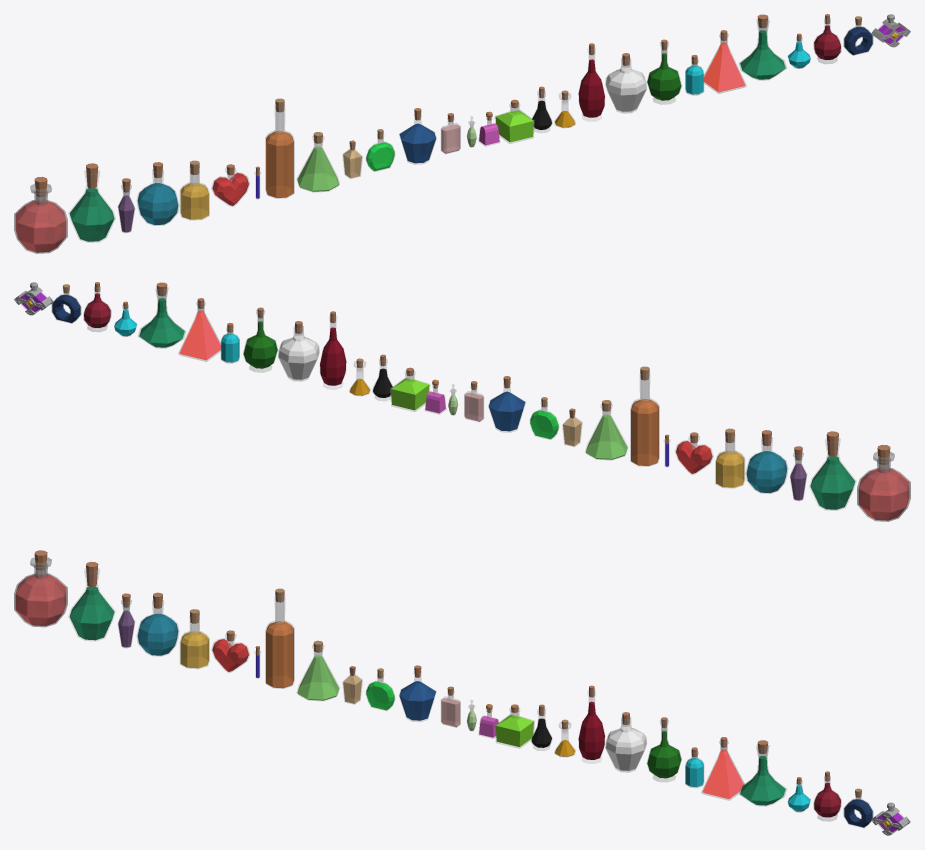
The model's file is potion_pack.glb.
The picture shows the model from 3 angles, top to bottom: view 1: azimuth 30°, elevation 25°; view 2: azimuth 150°, elevation 25°; view 3: azimuth 330°, elevation 25°; orthographic projection.
Parts seen in each view (by area): view 1: PotionGlass1, PotionGlass1.Potion, PotionGlass8, PotionGlass8.Potion, PotionGlass2.Potion, PotionGlass4, PotionGlass20, PotionGlass23, PotionGlass9, PotionGlass24, PotionGlass20.Potion, PotionGlass4.Potion (+28 smaller); view 2: PotionGlass1, PotionGlass1.Potion, PotionGlass8, PotionGlass8.Potion, PotionGlass2.Potion, PotionGlass4, PotionGlass20, PotionGlass23, PotionGlass9, PotionGlass24, PotionGlass20.Potion, PotionGlass4.Potion (+28 smaller); view 3: PotionGlass1, PotionGlass1.Potion, PotionGlass8, PotionGlass8.Potion, PotionGlass2.Potion, PotionGlass4, PotionGlass20, PotionGlass9, PotionGlass24, PotionGlass23, PotionGlass4.Potion, PotionGlass20.Potion (+22 smaller).
Part boxes in pixels (x1,y1,x2,y2): PotionGlass1: [14, 183, 67, 253]; PotionGlass1.Potion: [15, 201, 66, 252]; PotionGlass8: [265, 104, 294, 198]; PotionGlass8.Potion: [266, 131, 293, 197]; PotionGlass2.Potion: [69, 188, 114, 241]; PotionGlass4: [137, 169, 179, 225]; PotionGlass20: [605, 58, 646, 113]; PotionGlass23: [704, 34, 746, 93]; PotionGlass9: [297, 136, 339, 192]; PotionGlass24: [739, 19, 786, 80]; PotionGlass20.Potion: [606, 67, 646, 111]; PotionGlass4.Potion: [137, 183, 178, 224]; PotionGlass1: [857, 451, 910, 521]; PotionGlass1.Potion: [858, 469, 909, 520]; PotionGlass8: [630, 372, 659, 466]; PotionGlass8.Potion: [631, 399, 658, 465]; PotionGlass2.Potion: [810, 456, 855, 509]; PotionGlass4: [745, 437, 787, 493]; PotionGlass20: [278, 326, 319, 381]; PotionGlass23: [178, 302, 220, 361]; PotionGlass9: [585, 404, 627, 460]; PotionGlass24: [138, 287, 185, 348]; PotionGlass20.Potion: [278, 335, 318, 379]; PotionGlass4.Potion: [746, 451, 787, 492]; PotionGlass1: [14, 557, 67, 627]; PotionGlass1.Potion: [15, 574, 66, 625]; PotionGlass8: [265, 595, 294, 688]; PotionGlass8.Potion: [266, 621, 293, 688]; PotionGlass2.Potion: [69, 586, 114, 640]; PotionGlass4: [137, 600, 179, 656]; PotionGlass20: [605, 717, 646, 772]; PotionGlass9: [296, 645, 339, 700]; PotionGlass24: [739, 745, 786, 806]; PotionGlass23: [701, 740, 744, 800]; PotionGlass4.Potion: [137, 613, 178, 655]; PotionGlass20.Potion: [606, 726, 646, 770].
Bounding box in the file's own units: 34.89 × 3.49 × 1.9.
